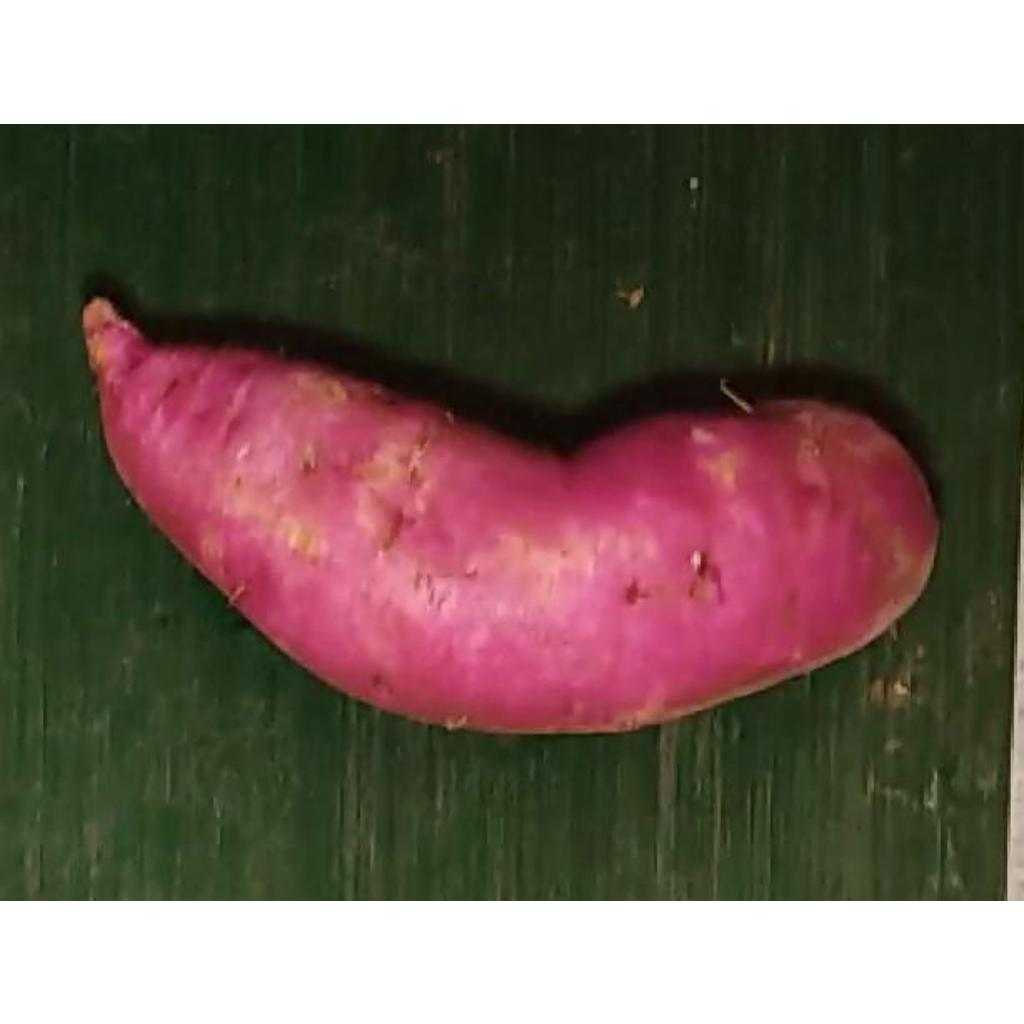Sweet Potato: (78, 295, 937, 738)
